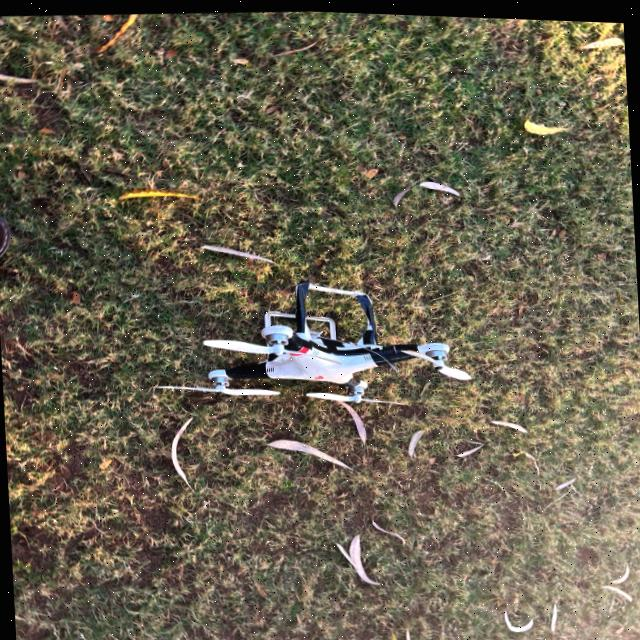drone: (135, 213, 484, 453)
